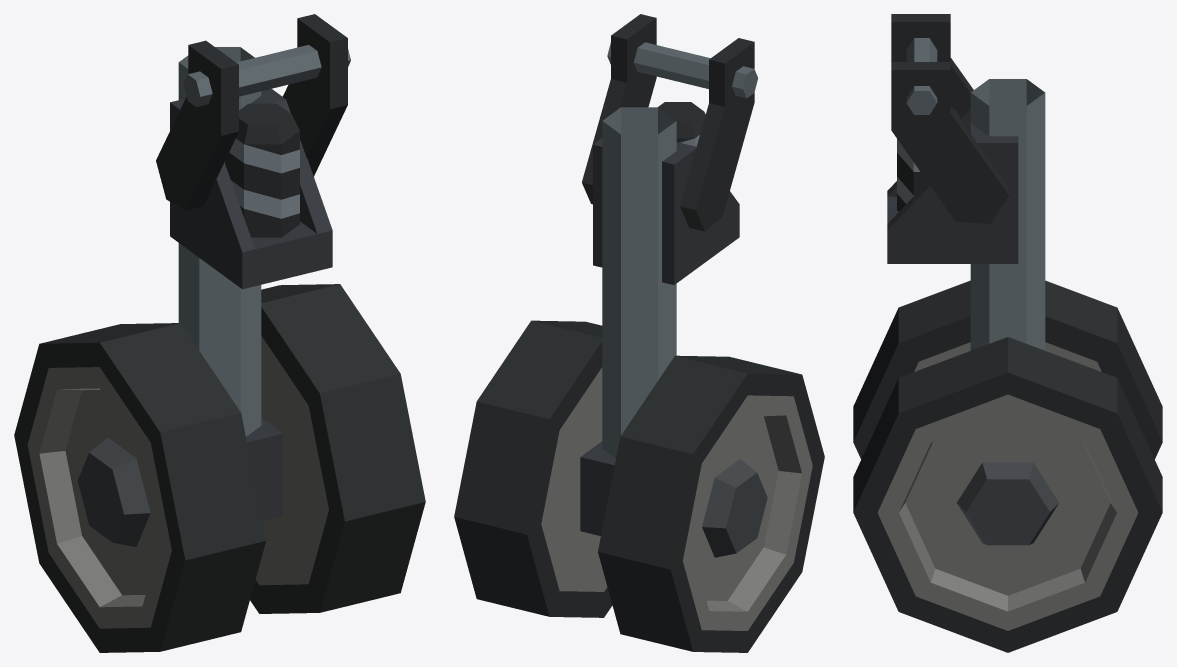
File: SM_Prop_Warehouse_Pallet_Jack_01_Pivot_01.obj
The picture shows the model from 3 angles, left to right: view 1: azimuth 30°, elevation 25°; view 2: azimuth 150°, elevation 25°; view 3: azimuth 270°, elevation 25°; orthographic projection. The views are drawn at different scales.
Parts seen in each view (by area): view 1: SM_Prop_Warehouse_Pallet_Jack_01_Pivot_01_0; view 2: SM_Prop_Warehouse_Pallet_Jack_01_Pivot_01_0; view 3: SM_Prop_Warehouse_Pallet_Jack_01_Pivot_01_0.
Boxes of the visible parts, x1,y1,x2,y2 form: SM_Prop_Warehouse_Pallet_Jack_01_Pivot_01_0: [14, 14, 425, 652]; SM_Prop_Warehouse_Pallet_Jack_01_Pivot_01_0: [454, 14, 824, 652]; SM_Prop_Warehouse_Pallet_Jack_01_Pivot_01_0: [853, 14, 1162, 652].
Bounding box in the file's own units: 0.234 × 0.5741 × 0.2885.
Materials: 1 (1 with a texture image).
